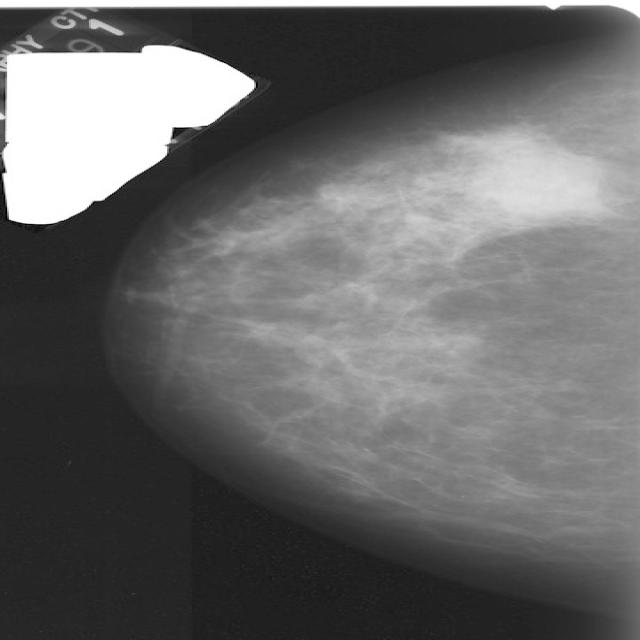tumour: (457, 128, 599, 221)
